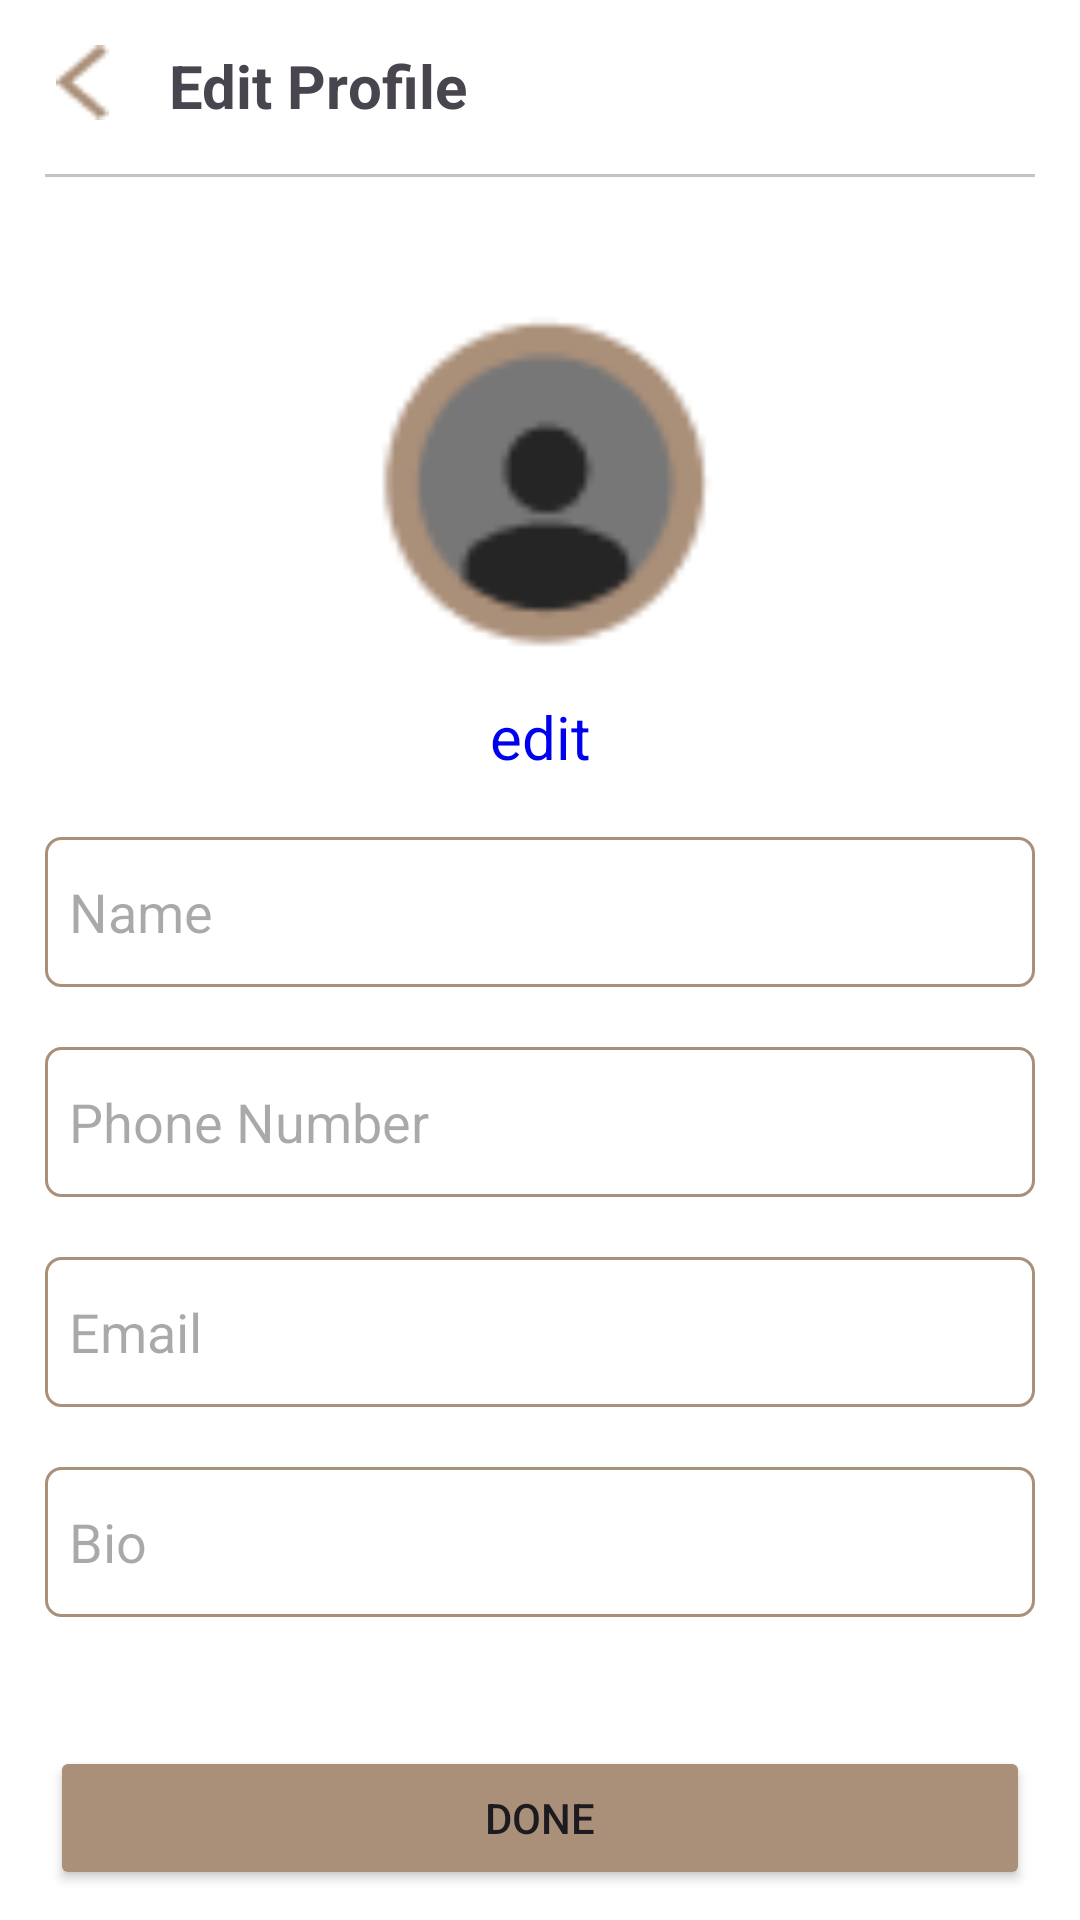

Named icons in this screenshot (1080 x 1920) and their bounding boxes, box=[x1, y1, x2, y2]:
account profile: box=[383, 322, 706, 646]
back arrow: box=[56, 45, 109, 120]
